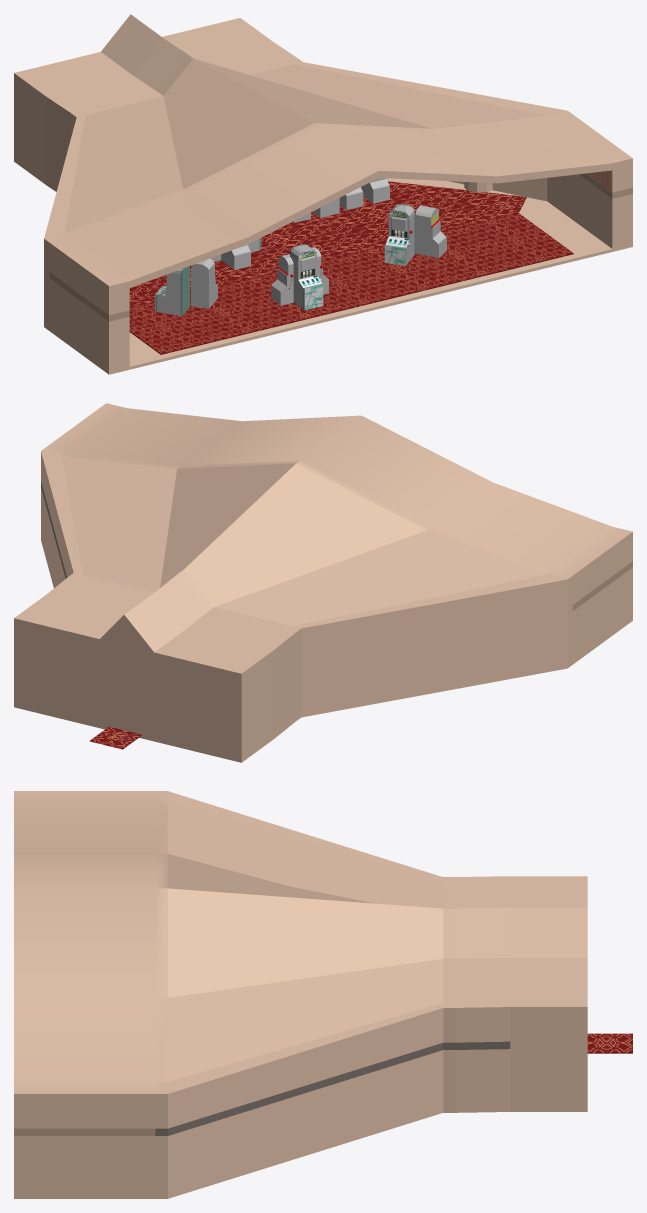
The model's file is casinoLayout.fbx.
3 views of the same model, one above another, from view 1: azimuth 30°, elevation 25°; view 2: azimuth 150°, elevation 25°; view 3: azimuth 270°, elevation 25° (orthographic). The views are drawn at different scales.
Parts seen in each view (by area): view 1: pCube6; view 2: pCube6; view 3: pCube6.
Part boxes in pixels (left/top/right/bottom): pCube6: left=14, top=14, right=632, bottom=374; pCube6: left=14, top=403, right=632, bottom=762; pCube6: left=14, top=791, right=632, bottom=1198.
Size of the model in its own units: 170 by 43.35 by 147.
43 materials, 14 textured.
